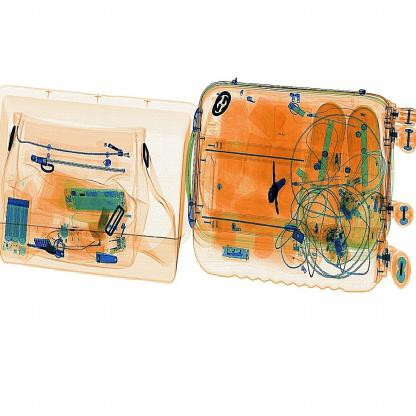wrench: (258, 154, 292, 223)
